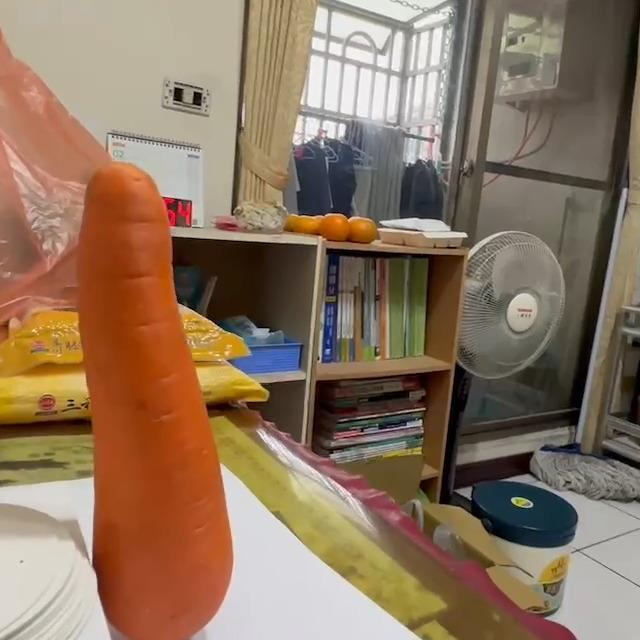carrot: (79, 160, 236, 640)
